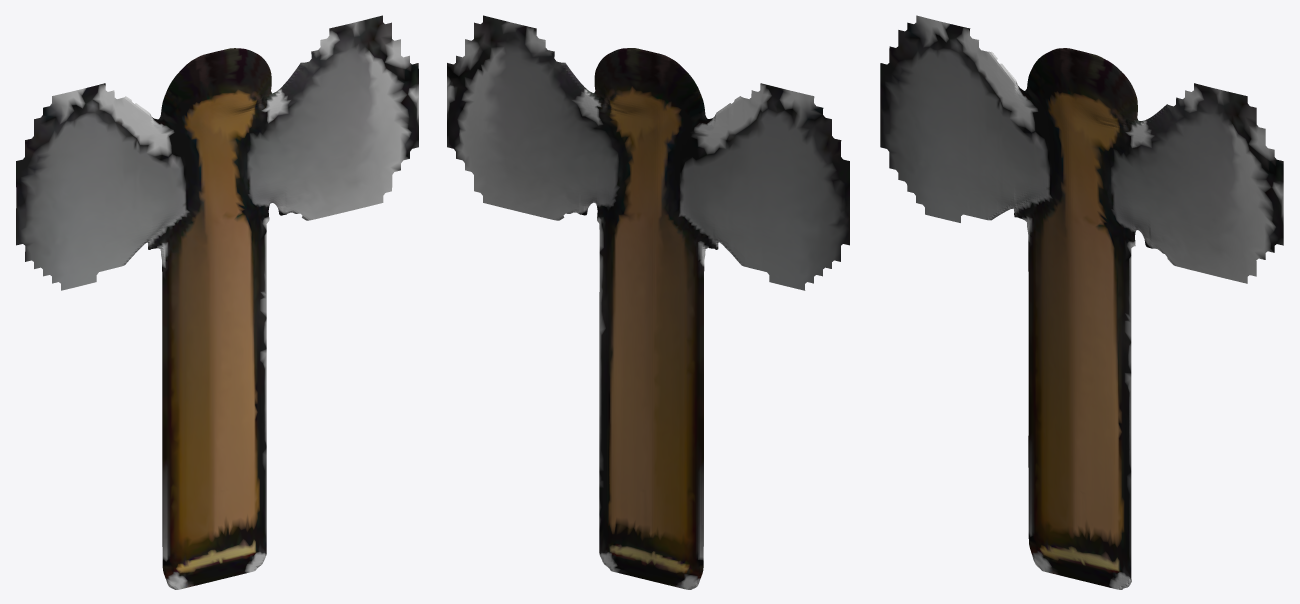
File: axe_3.glb
3 renders of one model, left to right at view 1: azimuth 30°, elevation 25°; view 2: azimuth 150°, elevation 25°; view 3: azimuth 330°, elevation 25°, orthographic.
Parts seen in each view (by area): view 1: geometry_0; view 2: geometry_0; view 3: geometry_0.
Boxes of the visible parts, <box> form: geometry_0: <box>16,15,418,589</box>; geometry_0: <box>447,15,849,589</box>; geometry_0: <box>880,15,1283,589</box>.
Bounding box in the file's own units: 0.75 × 0.9399 × 0.0224.
